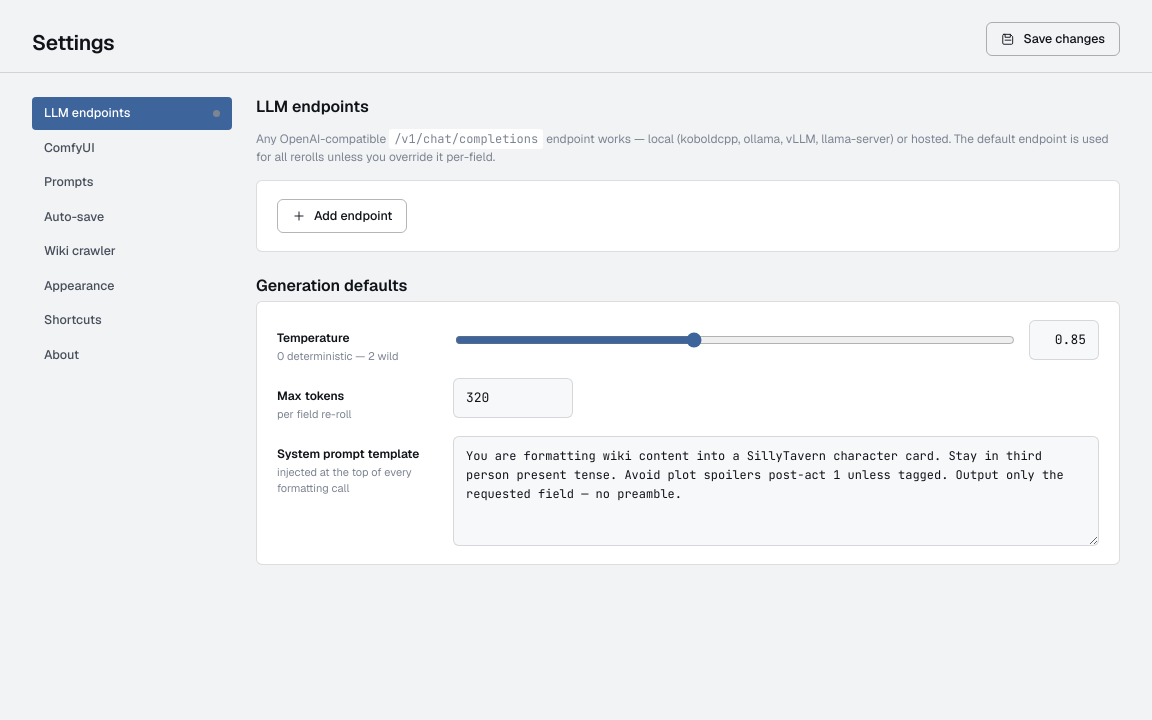
Test case: SettingsScreen › switches between settings sections
The image size is (1152, 720).
Note: The prompts section should now render the prompt editor, not "Coming in a later phase"
Click the button "Prompts".
click(132, 182)  # box top-left (32, 166), bottom-right (232, 198)
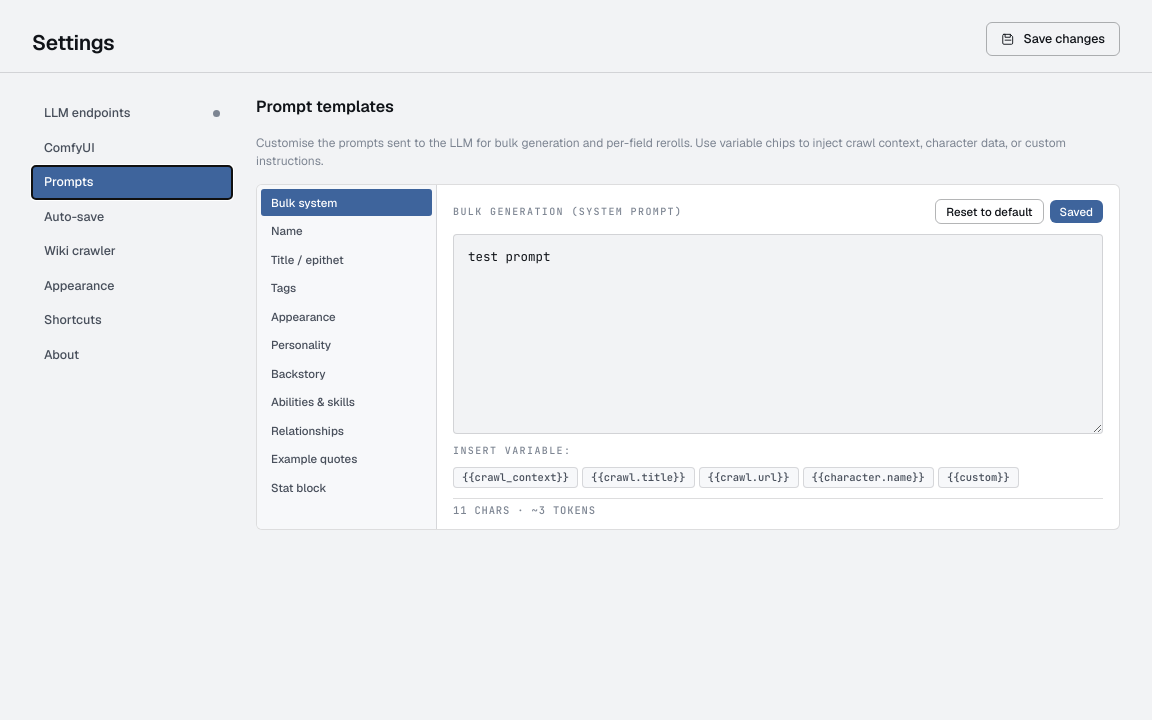
Result: the heading "Prompt templates" is shown at top-left (256, 96), bottom-right (394, 117)
